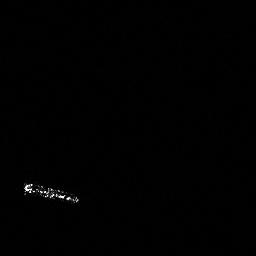ship: (23, 181, 79, 203)
